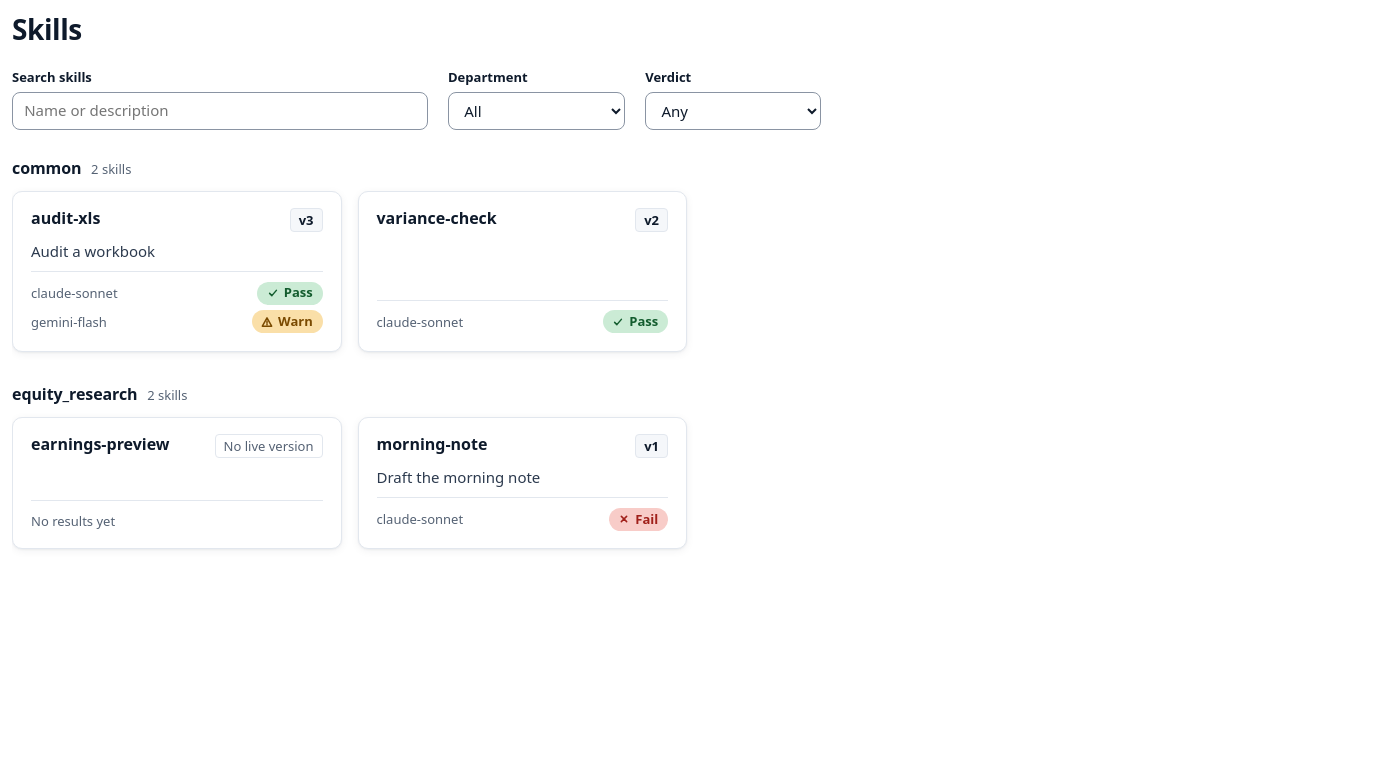
Test: Catalog › filters by verdict: a skill matches when any model has that verdict
Select "Warn" in the dropdown labelled "Verdict" at (733, 111), box [645,92,821,130]
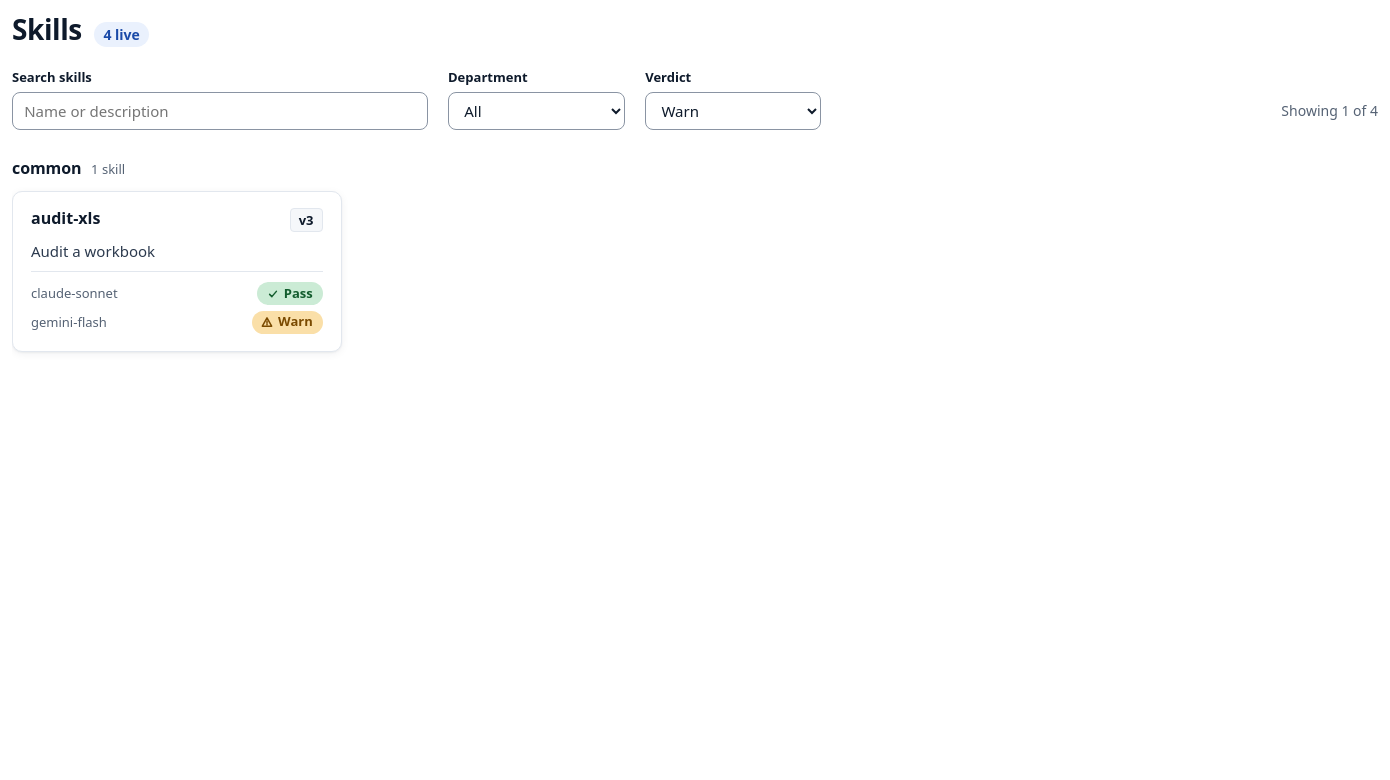
Expected: the link "audit-xls" is shown, [31,207,100,229]
Result: the link "morning-note" is gone
Result: the link "variance-check" is gone
Select "Fail" in the dropdown labelled "Verdict" at (733, 111), box [645,92,821,130]
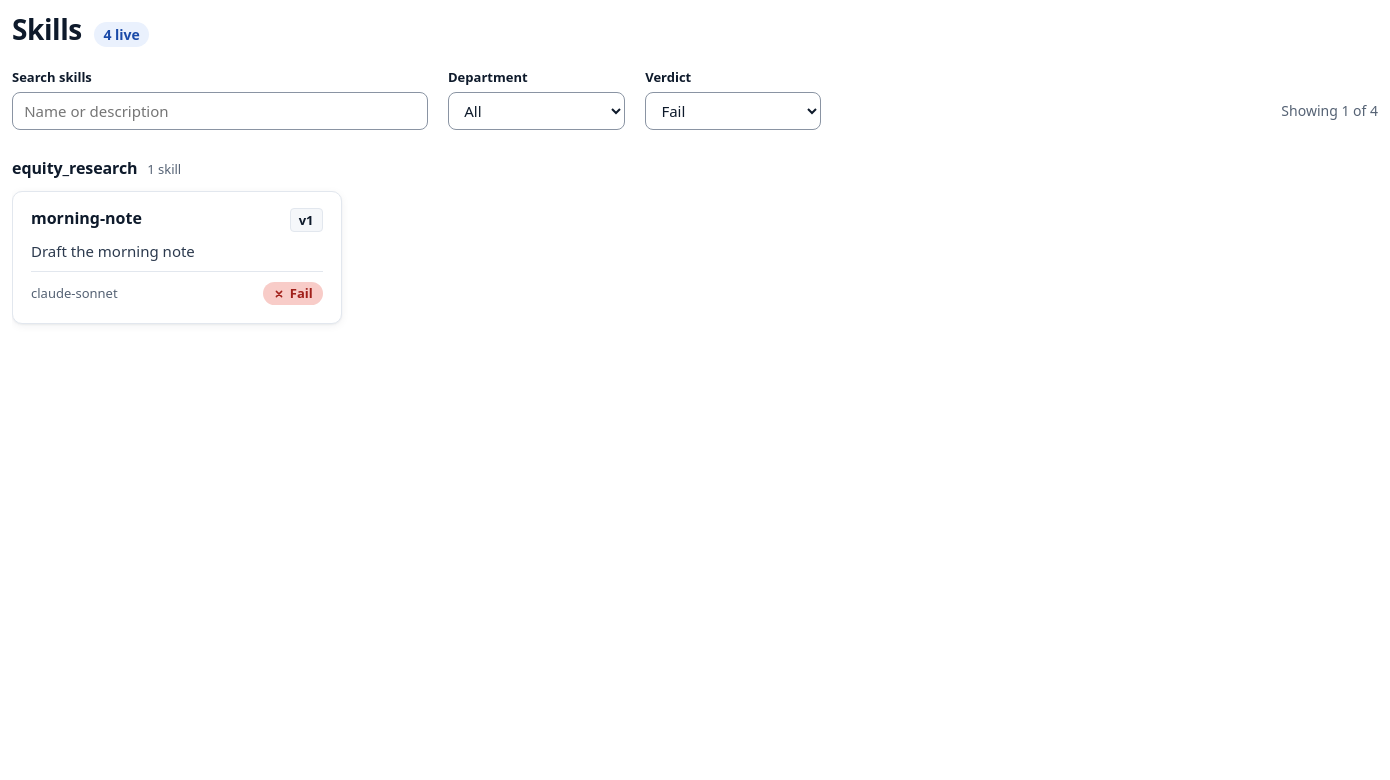
Result: the link "morning-note" is shown at [31,207,142,229]
Result: the link "audit-xls" is gone
Select "No results yet" in the dropdown labelled "Verdict" at (733, 111), box [645,92,821,130]
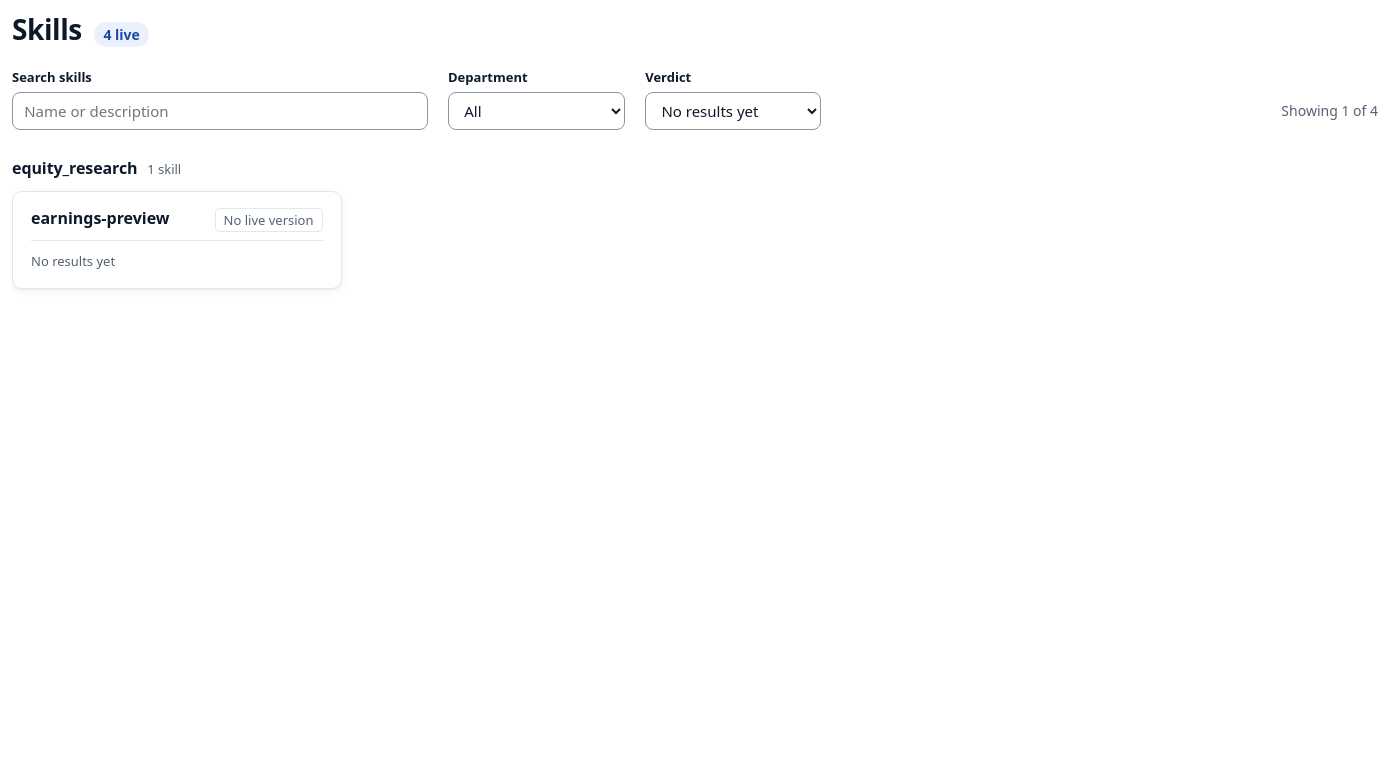
Result: the link "earnings-preview" is shown at [31,207,170,229]
Result: the link "morning-note" is gone
